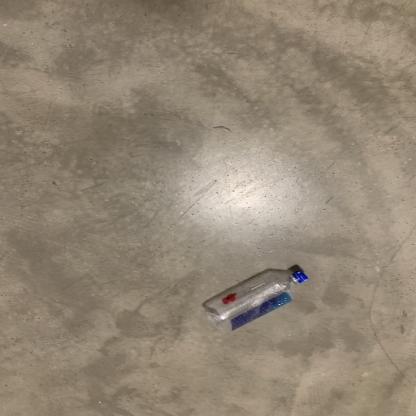trash: (204, 269, 310, 335)
